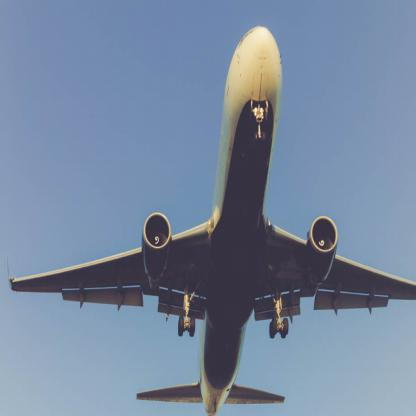CIV_Plane: (7, 23, 414, 416)
